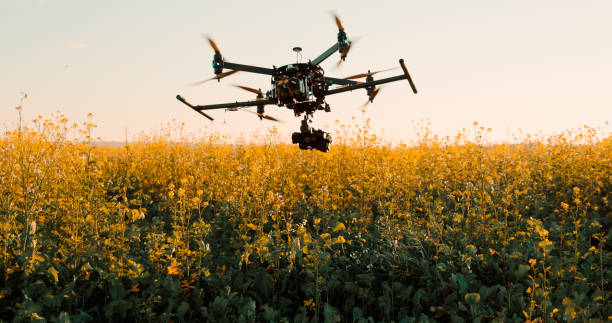Drone: (177, 6, 422, 157)
